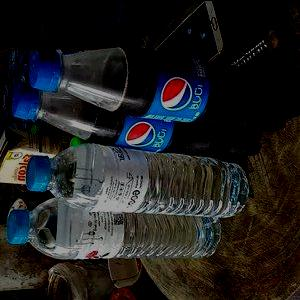bottle: (27, 38, 298, 134), (5, 84, 264, 166), (21, 139, 260, 221), (4, 192, 226, 266)
